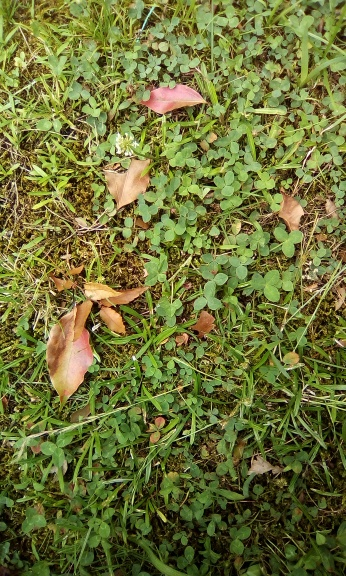4leaf: (142, 258, 168, 286)
